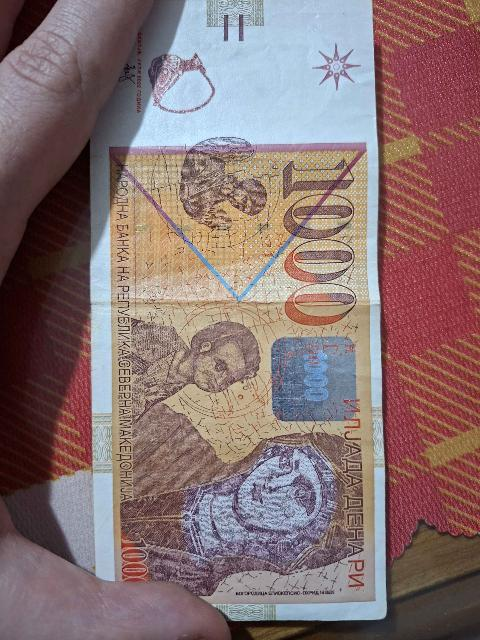1000_note: (89, 0, 388, 624)
